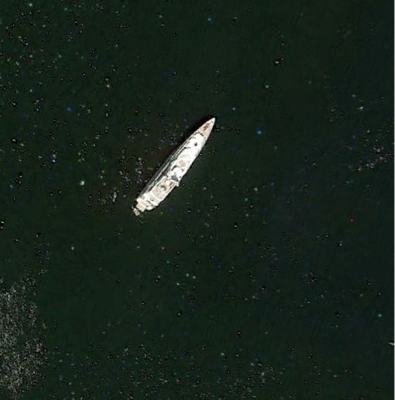boat: (132, 116, 218, 215)
